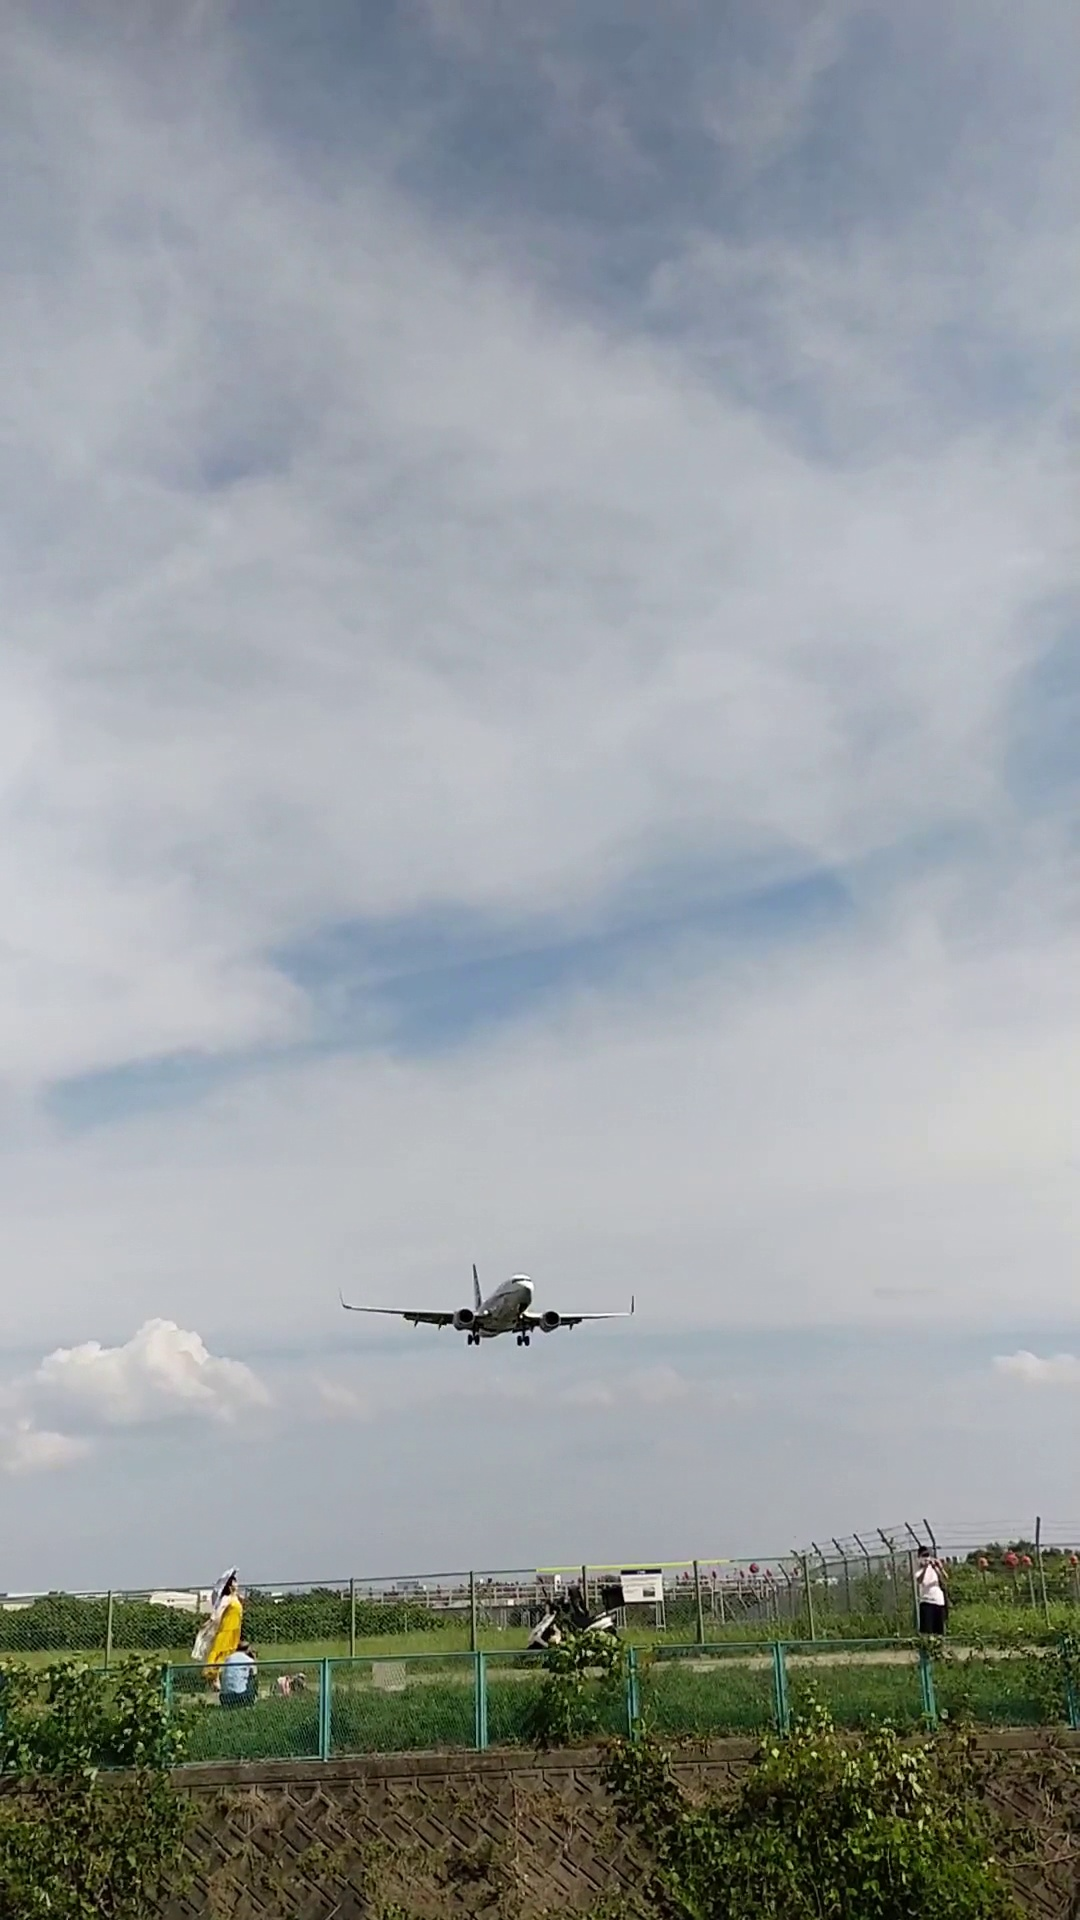plane: (336, 1257, 640, 1344)
